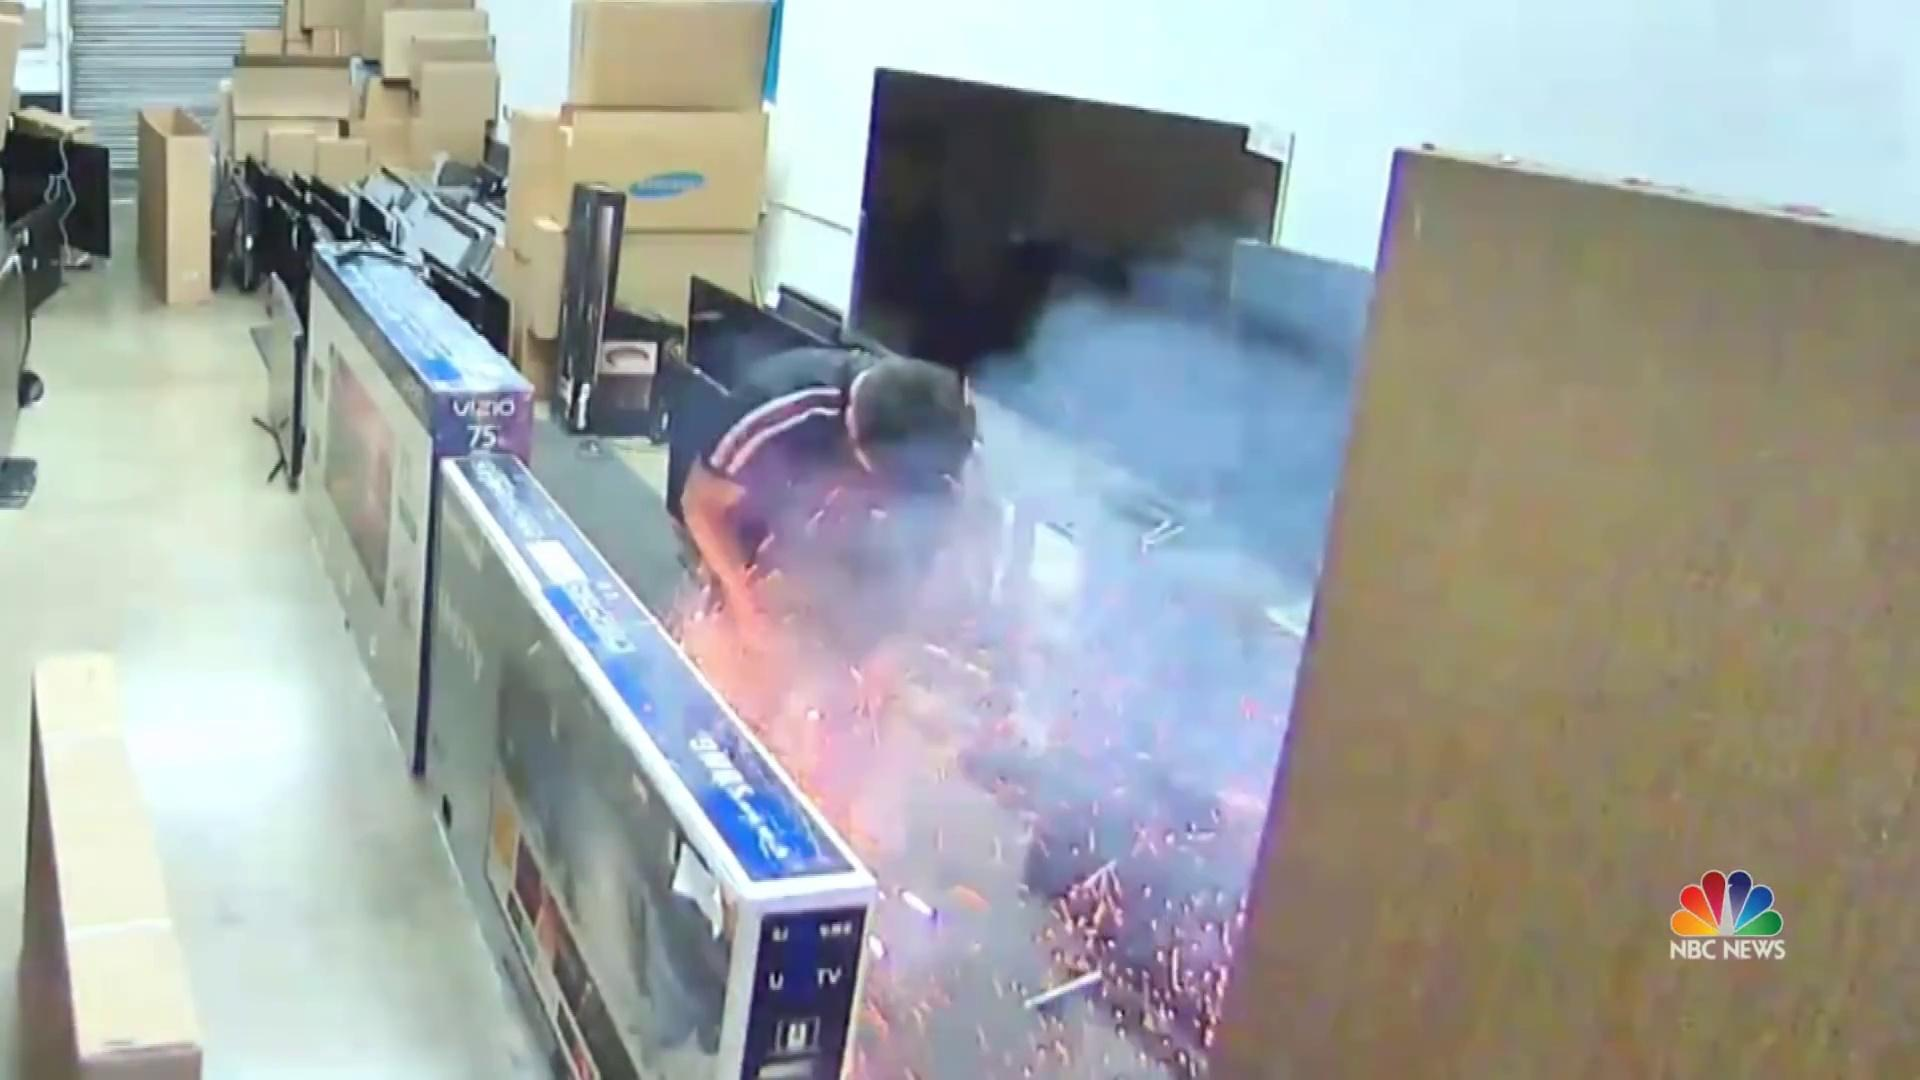fire: (621, 398, 1261, 1058)
